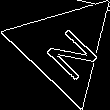N_NW: (32, 15, 96, 79)
